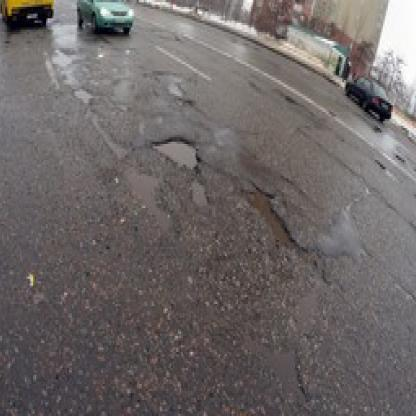pothole: (243, 185, 295, 249), (155, 137, 202, 172)
